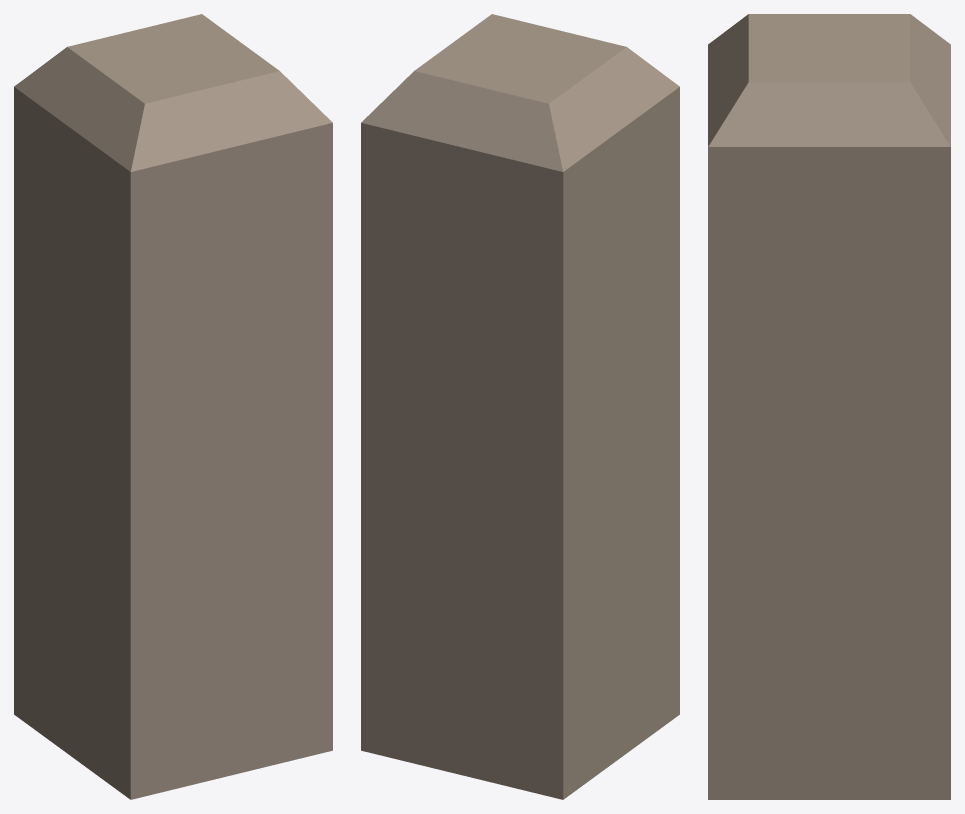
Rendered from modular_village_wood_post_1.glb.
The picture shows the model from 3 angles, left to right: view 1: azimuth 30°, elevation 25°; view 2: azimuth 150°, elevation 25°; view 3: azimuth 270°, elevation 25°; orthographic projection. The views are drawn at different scales.
Parts seen in each view (by area): view 1: object1; view 2: object1; view 3: object1.
Part boxes in pixels (x1=…): object1: x1=14, y1=14, x2=332, y2=799; object1: x1=361, y1=14, x2=679, y2=799; object1: x1=708, y1=14, x2=950, y2=799.
Size of the model in its own units: 0.1732 by 0.553 by 0.1733.
